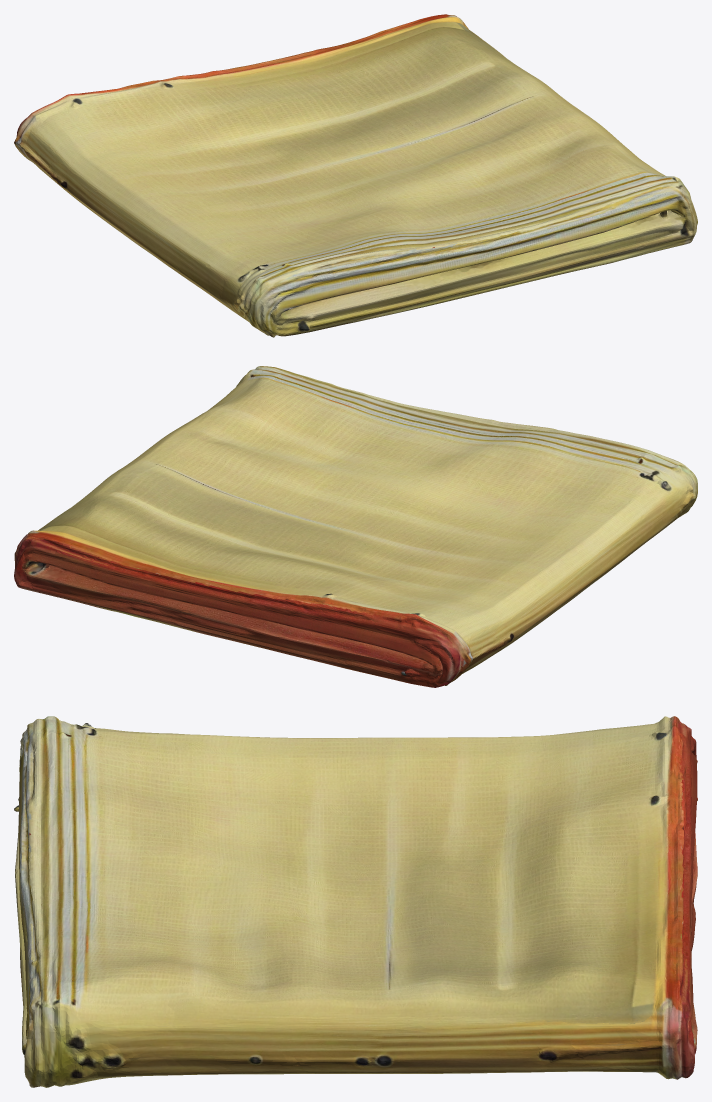
The model's file is image_0001_segmented.glb.
The picture shows the model from 3 angles, top to bottom: view 1: azimuth 30°, elevation 25°; view 2: azimuth 150°, elevation 25°; view 3: azimuth 270°, elevation 25°; orthographic projection. The views are drawn at different scales.
Visible parts, largest first — view 1: tmptj_e2ywv.ply; view 2: tmptj_e2ywv.ply; view 3: tmptj_e2ywv.ply.
Part boxes in pixels (x1,y1,x2,y2): tmptj_e2ywv.ply: (14, 14, 697, 337); tmptj_e2ywv.ply: (14, 366, 697, 687); tmptj_e2ywv.ply: (14, 716, 697, 1087).
Size of the model in its own units: 1.99 by 0.3223 by 1.88.
Materials: 1 (1 with a texture image).
